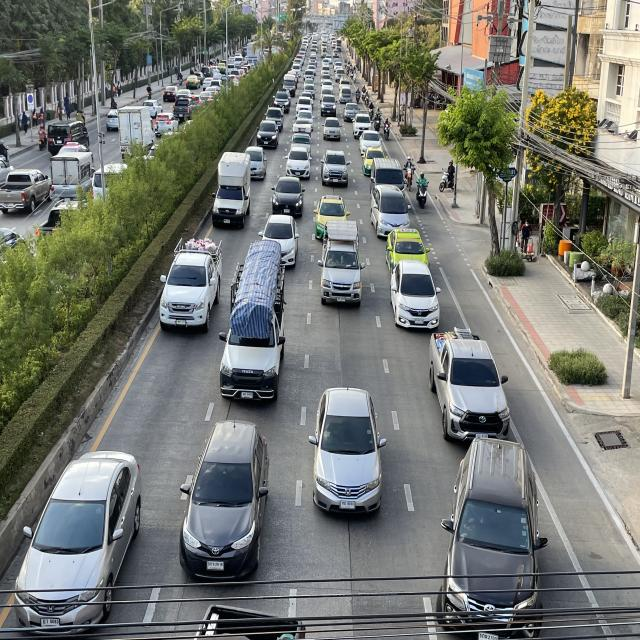car: (432, 434, 552, 640)
truck: (217, 238, 290, 409), (154, 228, 224, 338), (316, 217, 366, 313), (209, 150, 253, 230)
